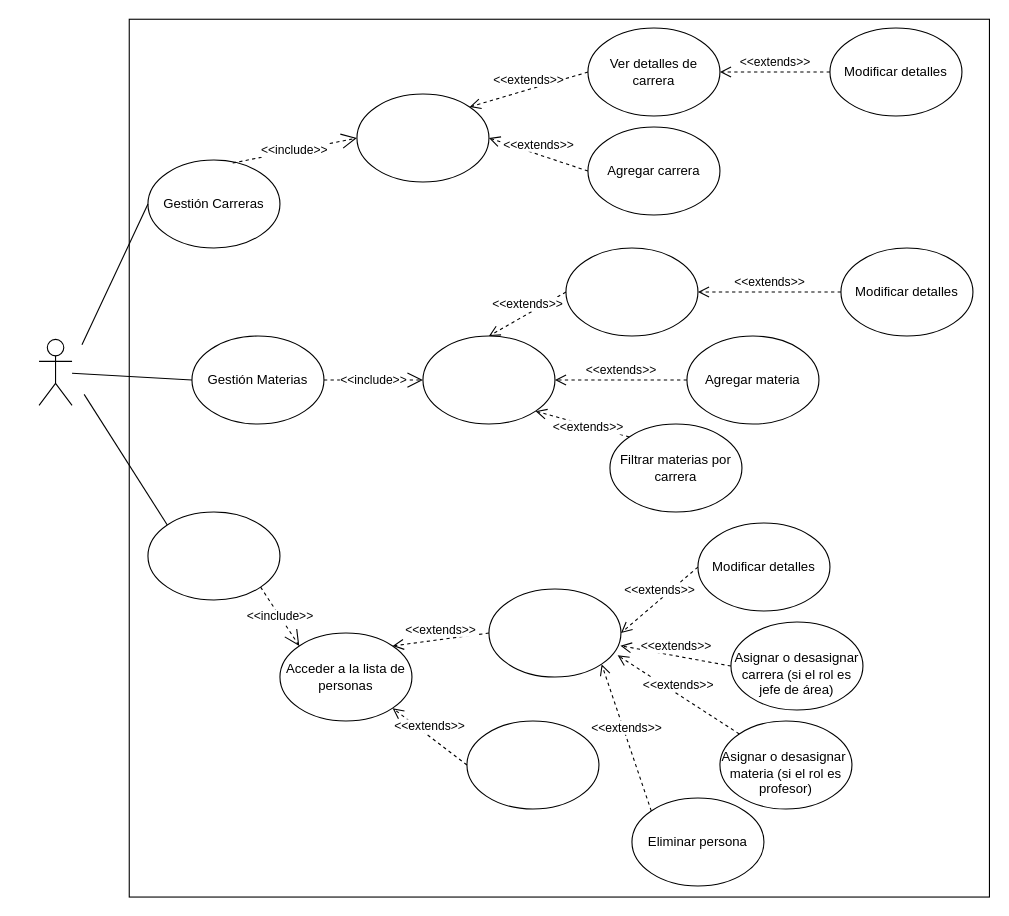
Image size: 1009x916. Some labels were removed from this diagram. Each missing label, with the centre of its shape:
Acceder a la lista de carreras: the point at 422,137
Acceder a la lista de materias: the point at 488,379
Agregar persona: the point at 532,764
Gestión Personas: the point at 213,555
SuperAdmin: the point at 55,371
Ver detalles de materia: the point at 631,291
Ver detalles de persona: the point at 554,632
